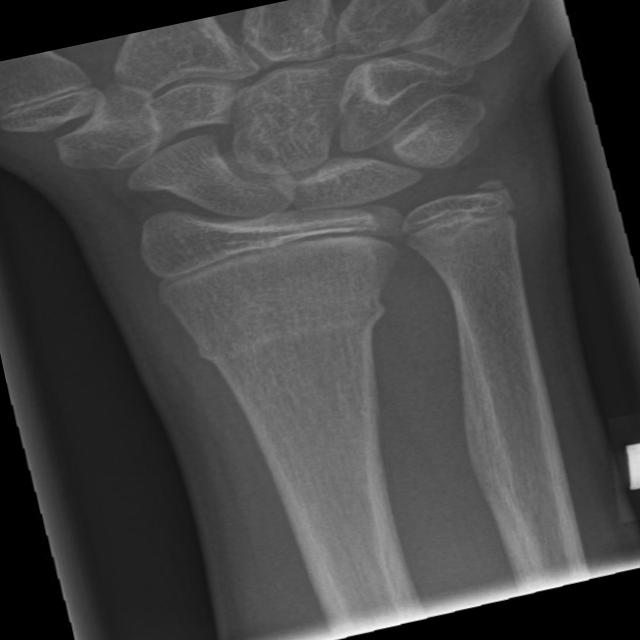fracture: (132, 188, 426, 315), (160, 278, 419, 382), (381, 176, 542, 262)
